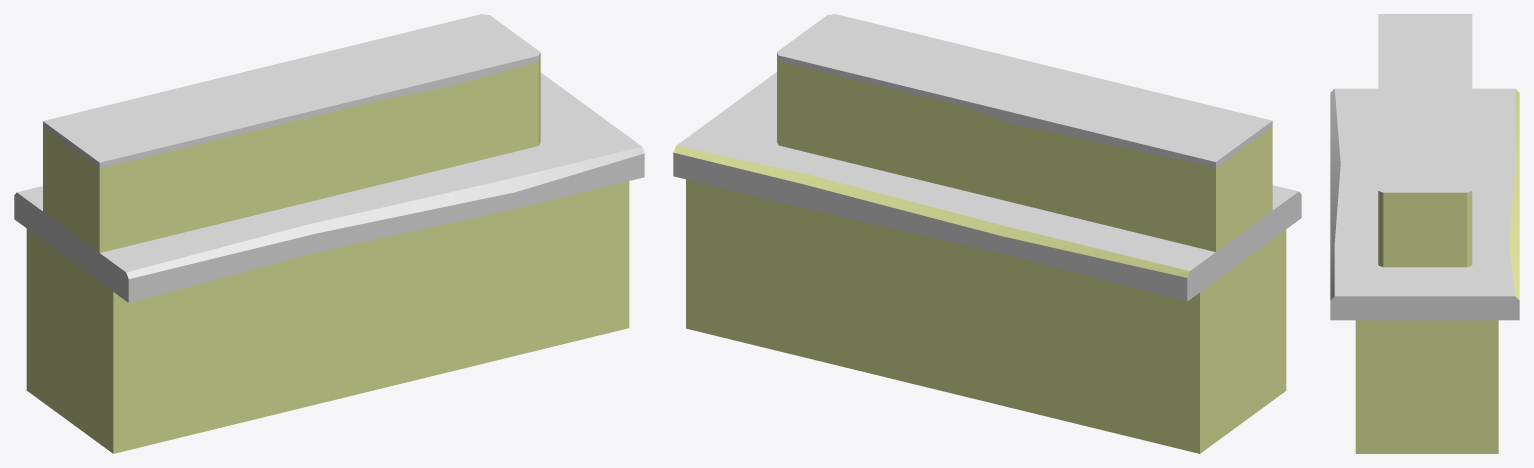
The model's file is TellerDesk_02.fbx.
3 renders of one model, left to right at view 1: azimuth 30°, elevation 25°; view 2: azimuth 150°, elevation 25°; view 3: azimuth 270°, elevation 25°, orthographic. The views are drawn at different scales.
Visible parts, largest first — view 1: SM_Prop_TellerDesk_02; view 2: SM_Prop_TellerDesk_02; view 3: SM_Prop_TellerDesk_02.
Boxes of the visible parts, box(x1,y1,x2,y2) form: SM_Prop_TellerDesk_02: box(14, 14, 644, 453); SM_Prop_TellerDesk_02: box(673, 14, 1301, 453); SM_Prop_TellerDesk_02: box(1330, 14, 1519, 453).
Bounding box in the file's own units: 2.5 × 1.3 × 0.9618.
